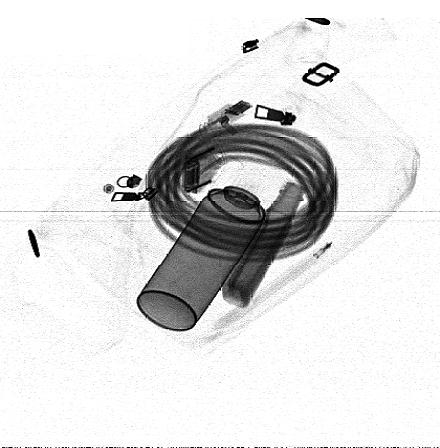Sprayer: (136, 167, 273, 331)
